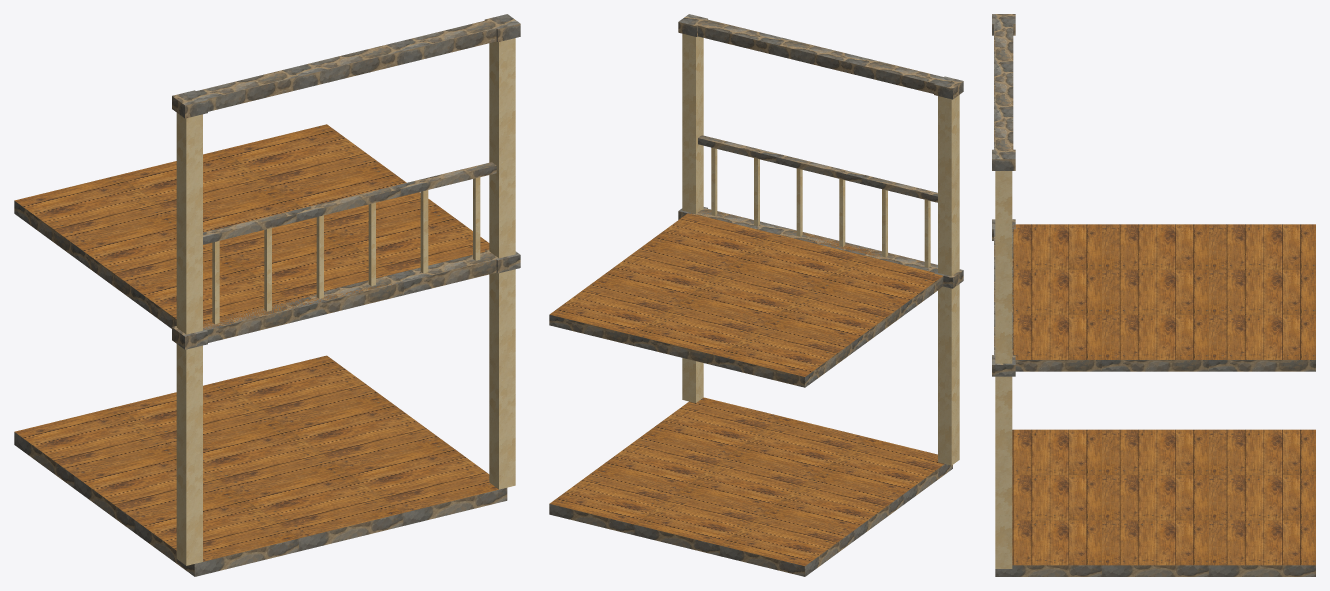
The model's file is datum-veranda-bay-v1.gltf.
The picture shows the model from 3 angles, left to right: view 1: azimuth 30°, elevation 25°; view 2: azimuth 150°, elevation 25°; view 3: azimuth 270°, elevation 25°; orthographic projection. The views are drawn at different scales.
Parts seen in each view (by area): view 1: balcony-L0-wood, balcony-L1-wood, balcony-L1-sash, balcony-L1-stone, balcony-L0-stone, balcony-L0-sash; view 2: balcony-L0-wood, balcony-L1-wood, balcony-L1-stone, balcony-L1-sash, balcony-L0-stone, balcony-L0-sash; view 3: balcony-L0-wood, balcony-L1-wood, balcony-L1-stone, balcony-L0-stone, balcony-L1-sash, balcony-L0-sash.
Part boxes in pixels (x1,y1,x2,y2): balcony-L0-wood: (14,355,498,561); balcony-L1-wood: (14,124,489,329); balcony-L1-sash: (176,38,515,334); balcony-L1-stone: (14,14,520,328); balcony-L0-stone: (14,250,520,576); balcony-L0-sash: (176,269,515,565); balcony-L0-wood: (549,397,944,565); balcony-L1-wood: (550,209,942,376); balcony-L1-stone: (549,14,963,387); balcony-L1-sash: (682,33,959,276); balcony-L0-stone: (549,207,963,576); balcony-L0-sash: (682,284,959,465); balcony-L0-wood: (1012,429,1315,565); balcony-L1-wood: (1012,224,1315,359); balcony-L1-stone: (992,14,1315,371); balcony-L0-stone: (992,219,1315,576); balcony-L1-sash: (995,171,1012,363); balcony-L0-sash: (995,376,1012,568).
Bounding box in the file's own units: 3.22 × 4.36 × 3.03.
4 materials, 4 textured.
